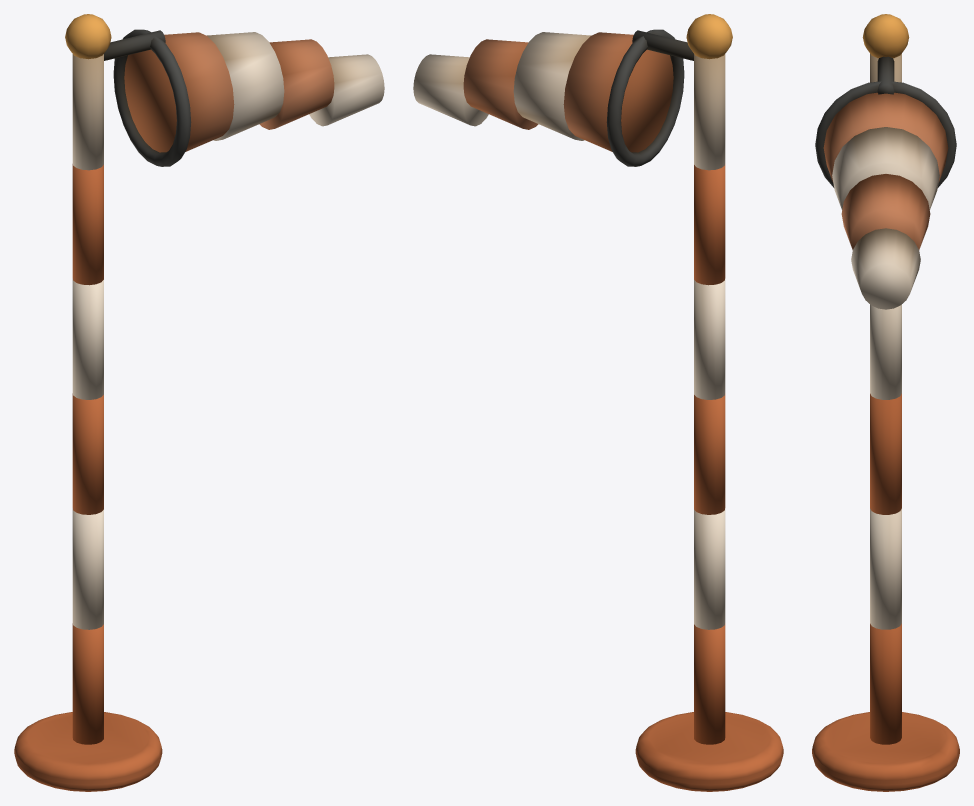
The model's file is prop_windsock.glb.
3 renders of one model, left to right at view 1: azimuth 30°, elevation 25°; view 2: azimuth 150°, elevation 25°; view 3: azimuth 270°, elevation 25°, orthographic.
Parts seen in each view (by area): view 1: sock0, base, sock1, sock2, pole0, pole1, pole2, pole4, pole3, hoop, pole5, sock3 (+2 smaller); view 2: sock0, base, sock1, sock2, pole0, pole1, pole2, pole4, pole3, hoop, pole5, sock3 (+2 smaller); view 3: base, sock1, sock0, sock2, sock3, pole0, pole2, pole1, pole3, hoop, capball, arm (+1 smaller).
Boxes of the visible parts, x1=… form: sock0: x1=124, y1=32, x2=234, y2=152; base: x1=14, y1=712, x2=162, y2=791; sock1: x1=207, y1=32, x2=284, y2=140; sock2: x1=259, y1=39, x2=334, y2=129; pole0: x1=72, y1=623, x2=103, y2=744; pole1: x1=72, y1=508, x2=103, y2=629; pole2: x1=72, y1=393, x2=103, y2=514; pole4: x1=72, y1=164, x2=103, y2=285; pole3: x1=72, y1=279, x2=103, y2=399; hoop: x1=113, y1=29, x2=191, y2=166; pole5: x1=72, y1=54, x2=103, y2=170; sock3: x1=309, y1=54, x2=384, y2=126; sock0: x1=563, y1=32, x2=673, y2=152; base: x1=635, y1=712, x2=783, y2=791; sock1: x1=513, y1=32, x2=590, y2=140; sock2: x1=463, y1=39, x2=538, y2=129; pole0: x1=694, y1=623, x2=725, y2=744; pole1: x1=694, y1=508, x2=725, y2=629; pole2: x1=694, y1=393, x2=725, y2=514; pole4: x1=694, y1=164, x2=725, y2=285; pole3: x1=694, y1=279, x2=725, y2=399; hoop: x1=606, y1=29, x2=684, y2=166; pole5: x1=694, y1=54, x2=725, y2=170; sock3: x1=413, y1=54, x2=488, y2=126; base: x1=812, y1=712, x2=959, y2=791; sock1: x1=832, y1=127, x2=939, y2=210; sock0: x1=823, y1=92, x2=948, y2=182; sock2: x1=841, y1=174, x2=930, y2=249; sock3: x1=851, y1=228, x2=920, y2=309; pole0: x1=870, y1=623, x2=901, y2=744; pole2: x1=870, y1=393, x2=901, y2=514; pole1: x1=870, y1=508, x2=901, y2=629; pole3: x1=870, y1=304, x2=901, y2=399; hoop: x1=815, y1=81, x2=956, y2=187; capball: x1=862, y1=14, x2=909, y2=58; arm: x1=877, y1=56, x2=894, y2=94.
Size of what is drawn, in the model's own units: 1.9 by 3.91 by 0.7.
